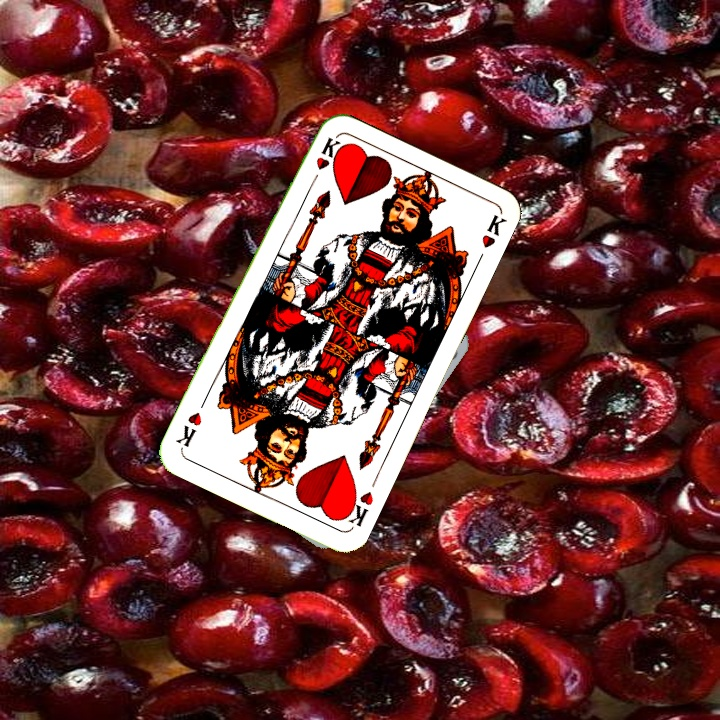HK: (305, 133, 341, 190), (338, 486, 376, 531)
